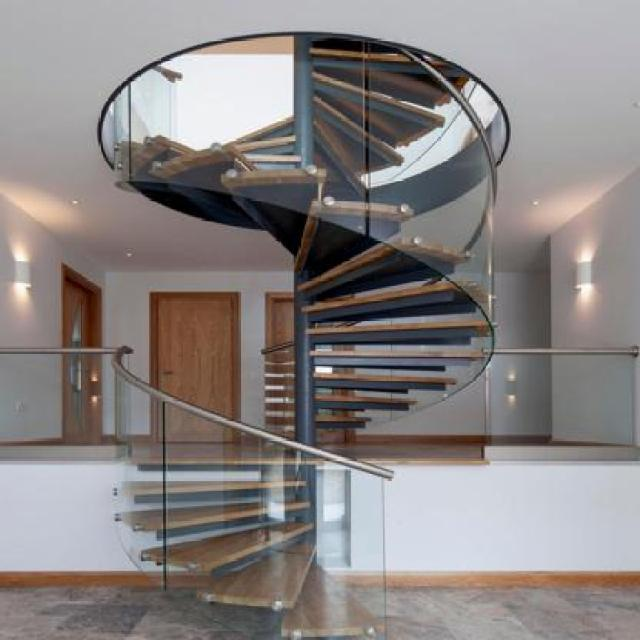stair: (96, 46, 510, 640)
